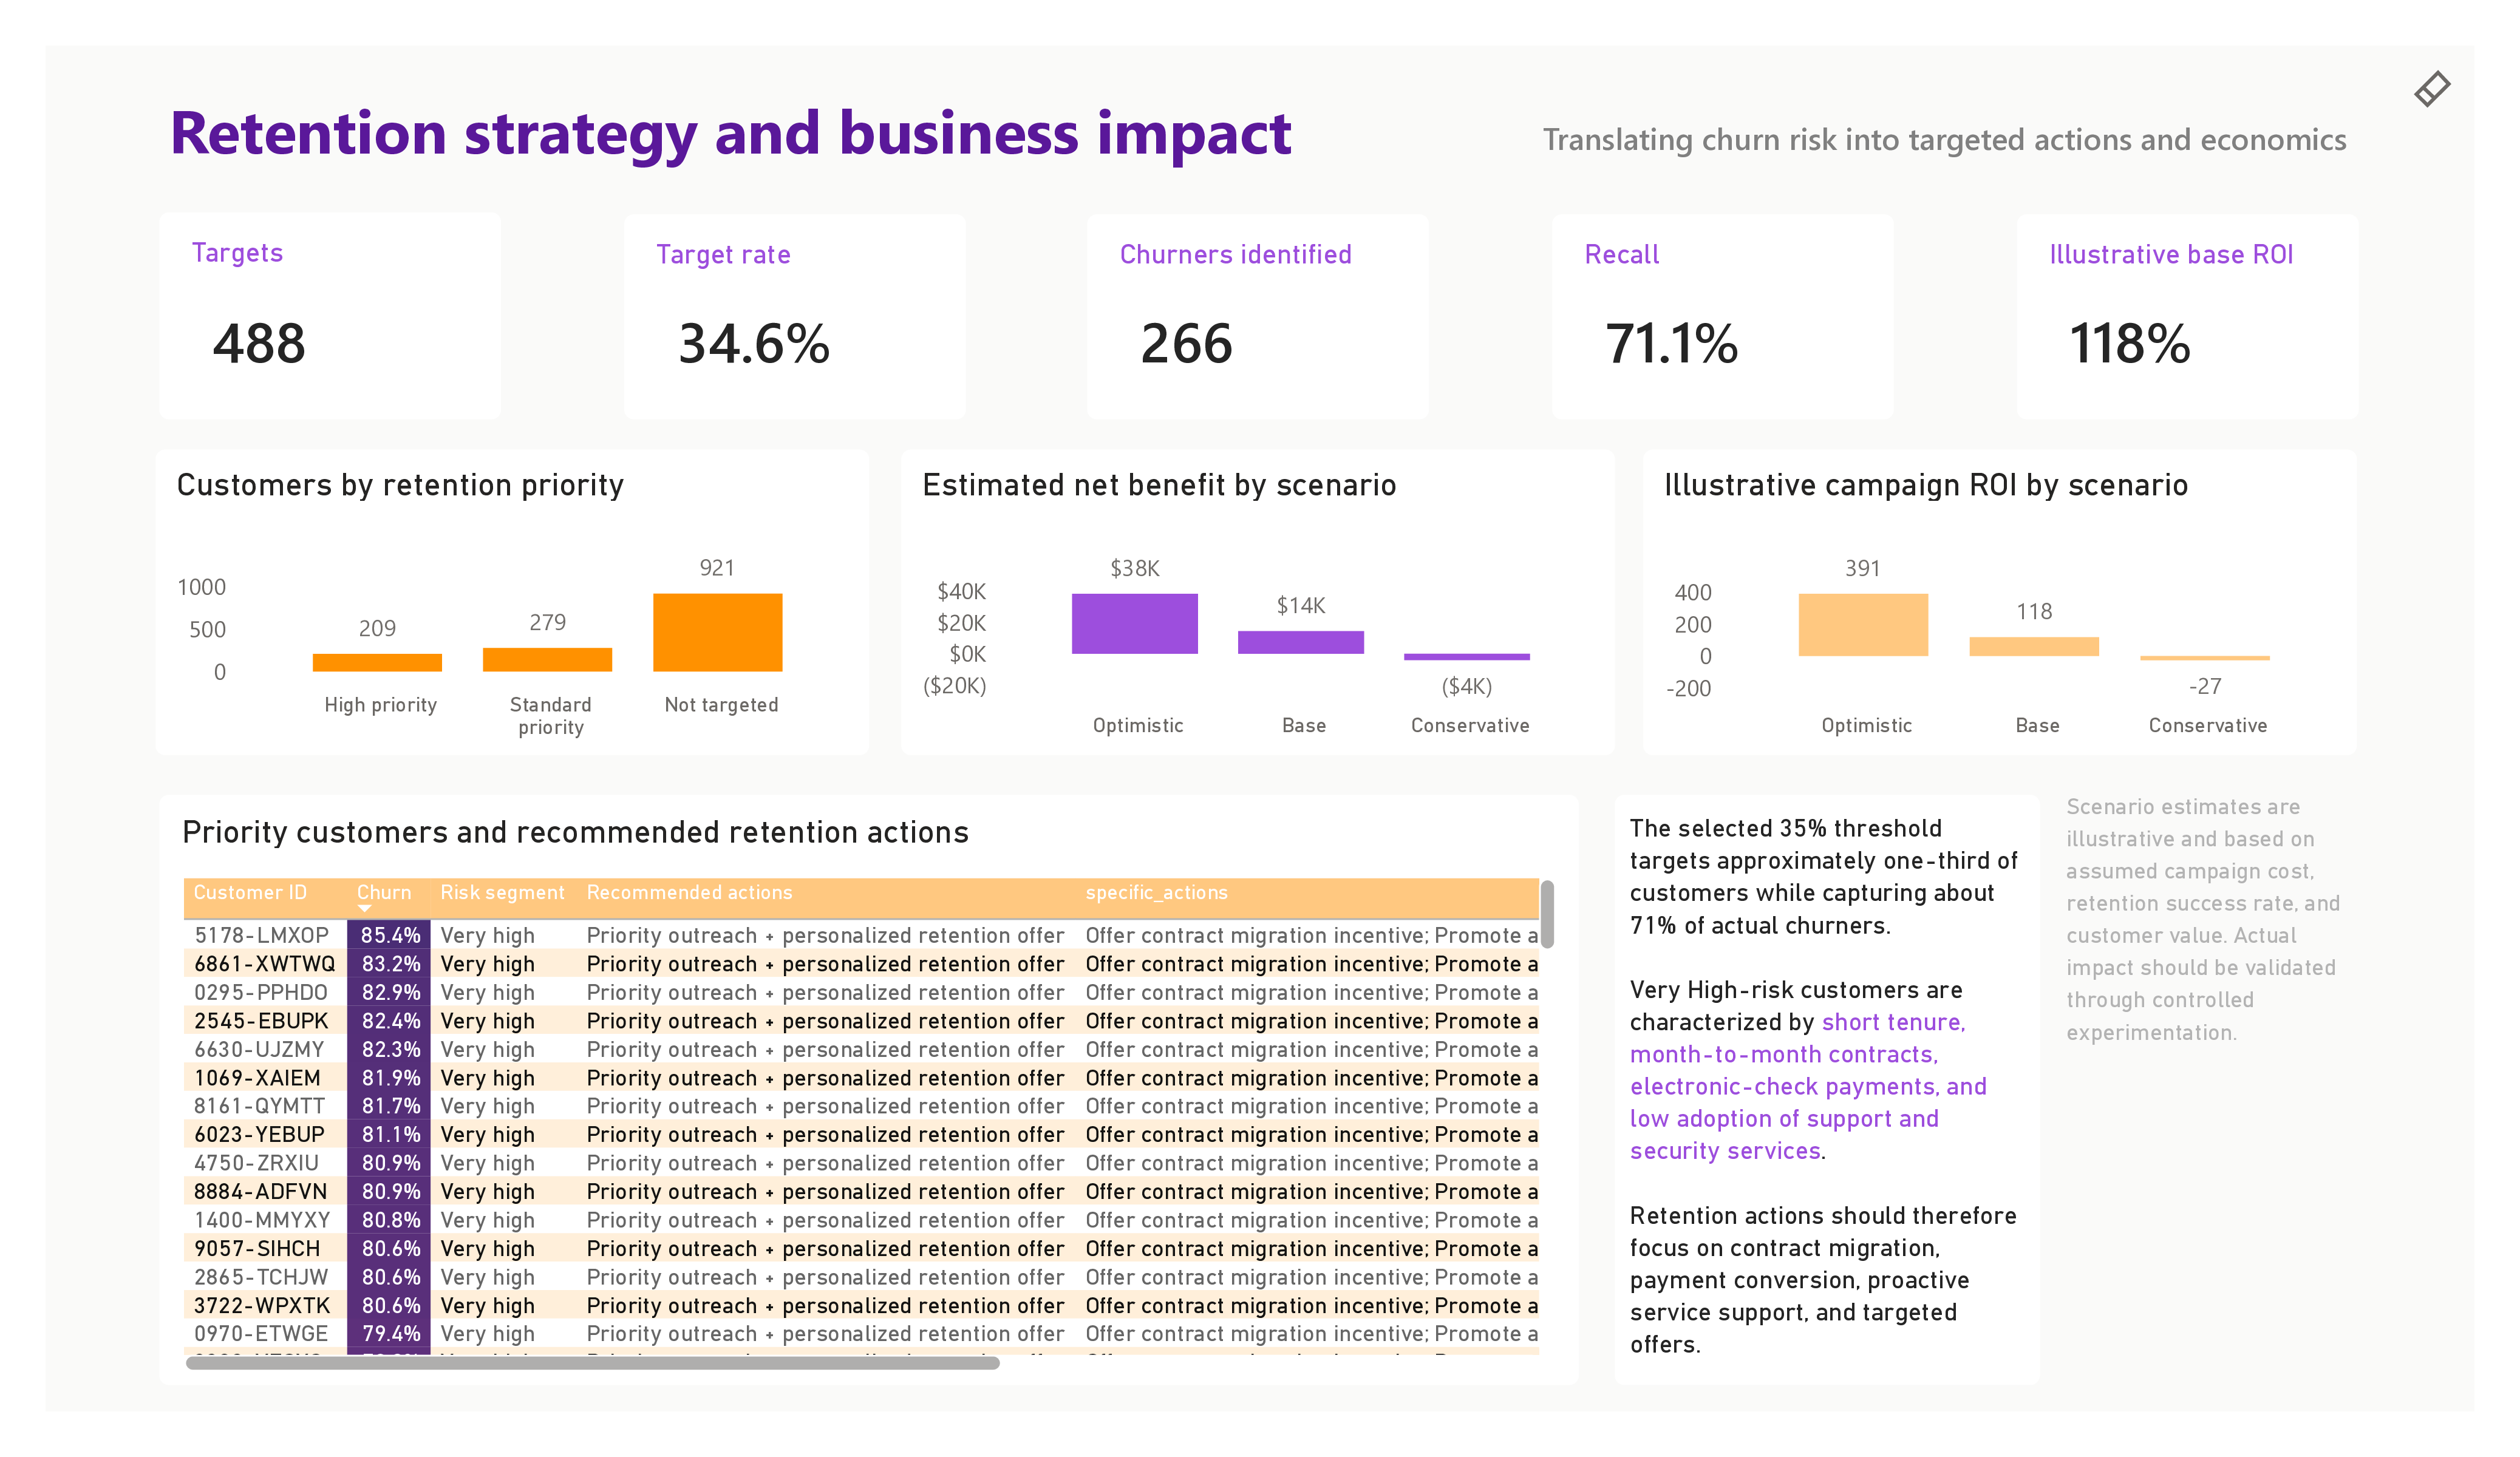

The page's visual inventory and layout, read from the dashboard file:
{"tool":"powerbi","page":{"name":"3 - Retention strategy and business impact","canvas":[1280,720],"ordinal":2},"visuals":[{"type":"textbox","box":[60,17.3,659.1,54.5],"z":0},{"type":"textbox","box":[661.7,33.3,556.7,38.3],"z":1000},{"type":"cardVisual","title":"Targets","fields":{"Data":["Measures (2).Retention targets"]},"box":[60,88.3,180,108.3],"z":2000},{"type":"cardVisual","title":"Target rate","fields":{"Data":["Measures (2).Target rate"]},"box":[304.6,88.8,180,108.3],"z":3000},{"type":"cardVisual","title":"Churners identified","fields":{"Data":["Measures (2).Churners identified"]},"box":[549.3,88.6,180,108.3],"z":4000},{"type":"cardVisual","title":"Illustrative base ROI","fields":{"Data":["Measures (2).Base scenario ROI"]},"box":[1038.6,88.6,180,108.3],"z":5000},{"type":"cardVisual","title":"Recall","fields":{"Data":["Measures (2).Model recall"]},"box":[793.9,88.6,180,108.3],"z":6000},{"type":"clusteredColumnChart","title":"Customers by retention priority","fields":{"Category":["Model results.retention_priority"],"Y":["Measures (2).Model customers"]},"box":[58,213,376.4,160.9],"z":7000},{"type":"clusteredColumnChart","title":"Illustrative campaign ROI by scenario","fields":{"Category":["ROI Scenarios.Scenario"],"Y":["Sum(ROI Scenarios.ROI (%))"]},"box":[841.8,212.7,376.4,160.9],"z":8000},{"type":"clusteredColumnChart","title":"Estimated net benefit by scenario","fields":{"Category":["ROI Scenarios.Scenario"],"Y":["Sum(ROI Scenarios.Net Benefit)"]},"box":[450.9,212.7,376.4,160.9],"z":9000},{"type":"textbox","box":[827,395,224,311],"z":10000},{"type":"textbox","box":[1060,386.4,157.3,156.4],"z":11000},{"type":"tableEx","title":"Priority customers and recommended retention actions","fields":{"Values":["Model results.customer_id","Sum(Model results.churn_probabaility)","Model results.risk_segment","Model results.recommended_action","Model results.specific_actions"]},"box":[60,395.5,748.2,310.9],"z":12000},{"type":"actionButton","box":[1235.5,0,44.5,44.5],"z":12001}]}

Visuals, with their boxes on the page's 1280x720 design canvas (x1, y1, x2, y2). These are canvas units, not pixel positions in the 2520x1457 screenshot, which may show the page scaled, cropped or inside an application window:
textbox: 60/17/719/72
textbox: 662/33/1218/72
"Targets" cardVisual: 60/88/240/197
"Target rate" cardVisual: 305/89/485/197
"Churners identified" cardVisual: 549/89/729/197
"Illustrative base ROI" cardVisual: 1039/89/1219/197
"Recall" cardVisual: 794/89/974/197
"Customers by retention priority" clusteredColumnChart: 58/213/434/374
"Illustrative campaign ROI by scenario" clusteredColumnChart: 842/213/1218/374
"Estimated net benefit by scenario" clusteredColumnChart: 451/213/827/374
textbox: 827/395/1051/706
textbox: 1060/386/1217/543
"Priority customers and recommended retention actions" tableEx: 60/396/808/706
actionButton: 1236/0/1280/44
